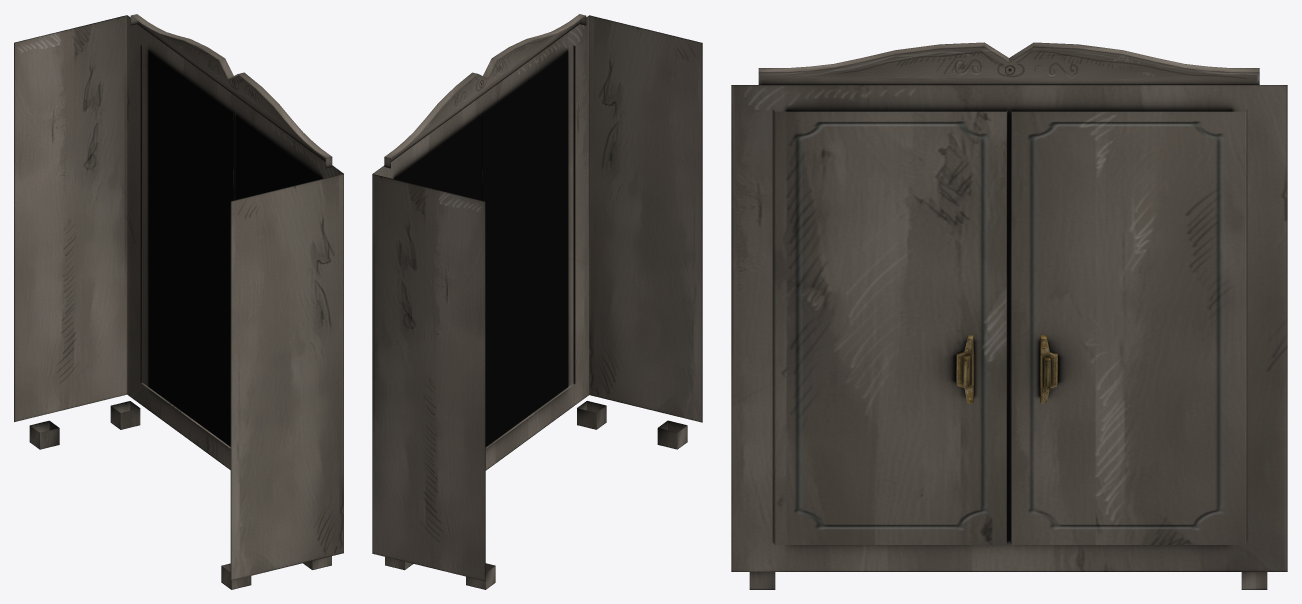
File: wardrobe2.fbx
The picture shows the model from 3 angles, left to right: view 1: azimuth 30°, elevation 25°; view 2: azimuth 150°, elevation 25°; view 3: azimuth 270°, elevation 25°; orthographic projection. The views are drawn at different scales.
Parts seen in each view (by area): view 1: polySurface1748; view 2: polySurface1748; view 3: polySurface1748.
Boxes of the visible parts, <box> form: polySurface1748: <box>14,14,343,589</box>; polySurface1748: <box>372,14,702,589</box>; polySurface1748: <box>731,42,1287,589</box>.
Size of the model in its own units: 80.27 by 261 by 241.
